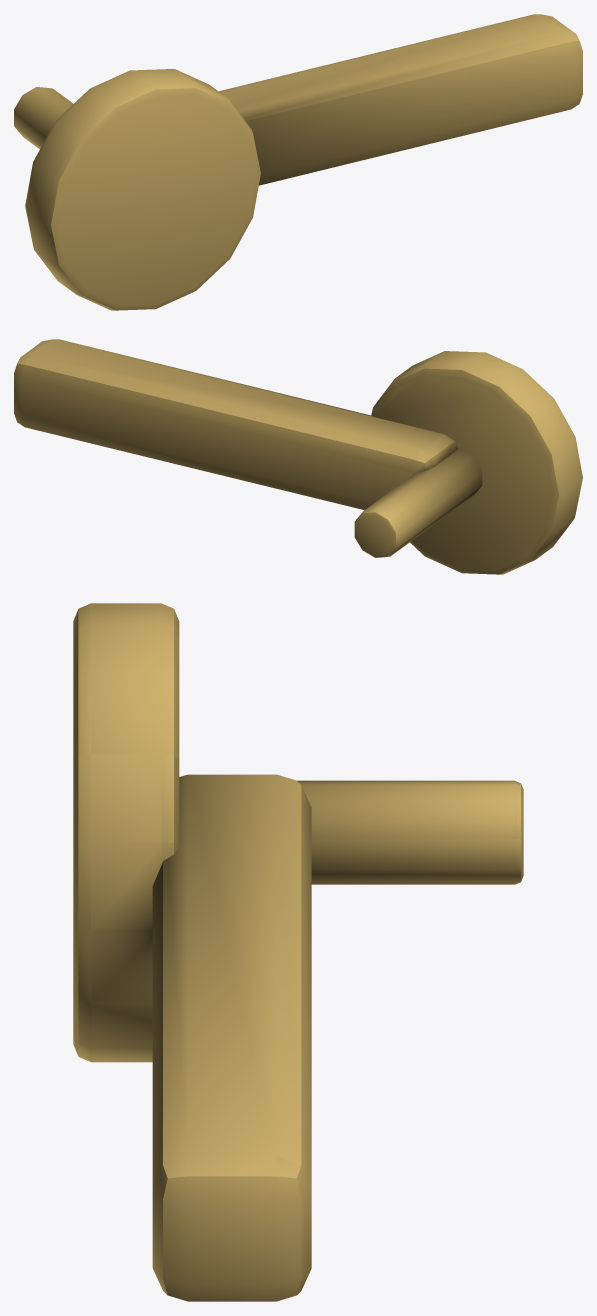
Rendered from door_handle_lever.glb.
The picture shows the model from 3 angles, top to bottom: view 1: azimuth 30°, elevation 25°; view 2: azimuth 150°, elevation 25°; view 3: azimuth 270°, elevation 25°; orthographic projection. The views are drawn at different scales.
Parts seen in each view (by area): view 1: door_handle_lever; view 2: door_handle_lever; view 3: door_handle_lever.
Boxes of the visible parts, left/top/right/bottom form: door_handle_lever: left=14, top=14, right=582, bottom=310; door_handle_lever: left=14, top=339, right=582, bottom=574; door_handle_lever: left=73, top=603, right=523, bottom=1301.
Bounding box in the file's own units: 0.136 × 0.052 × 0.051.
